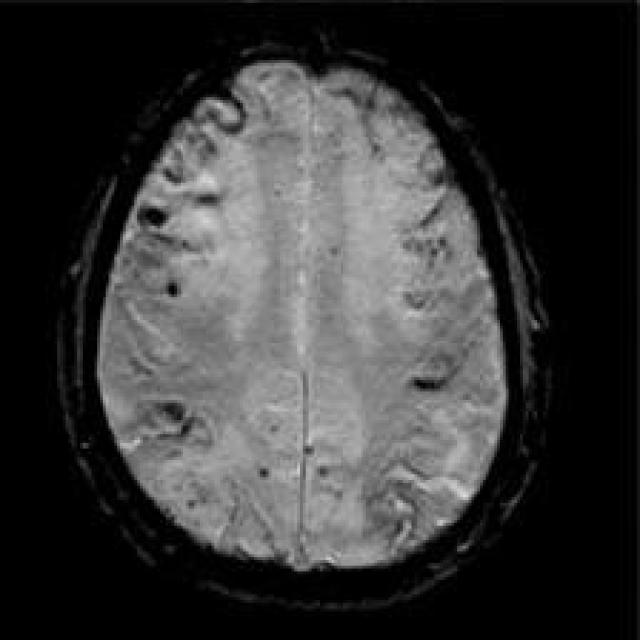no_tumor: (29, 9, 566, 610)
